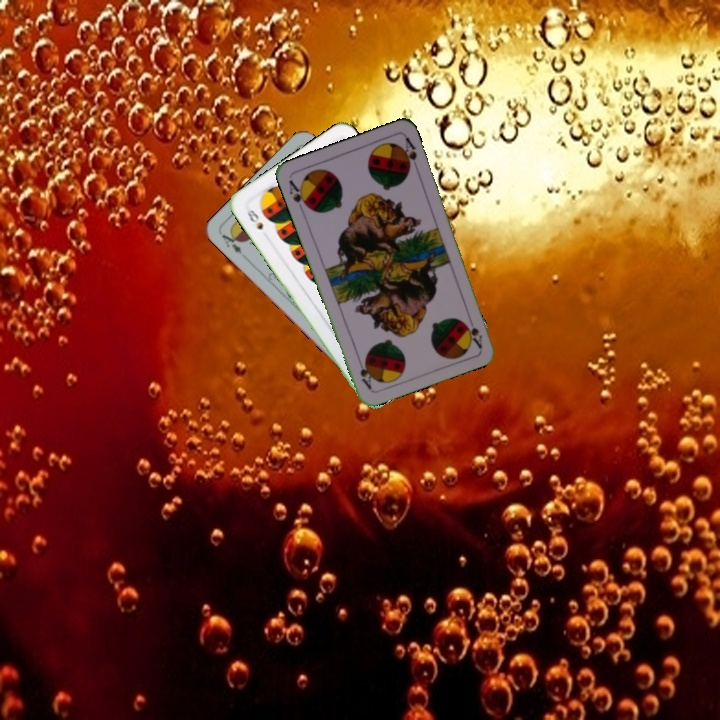EA: (218, 227, 244, 256)
S8: (241, 204, 266, 232)
SA: (285, 175, 312, 215), (463, 311, 485, 350)
